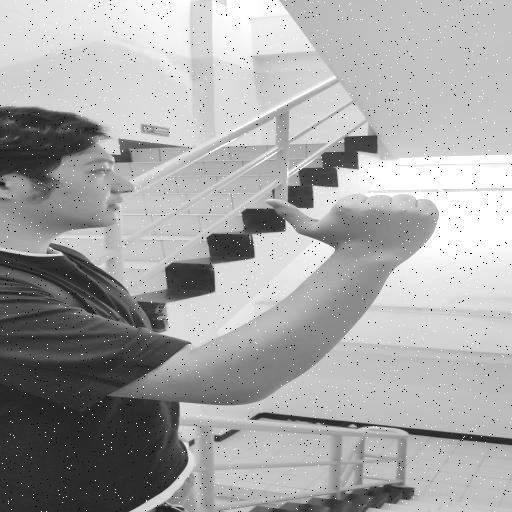back: (244, 170, 460, 266)
